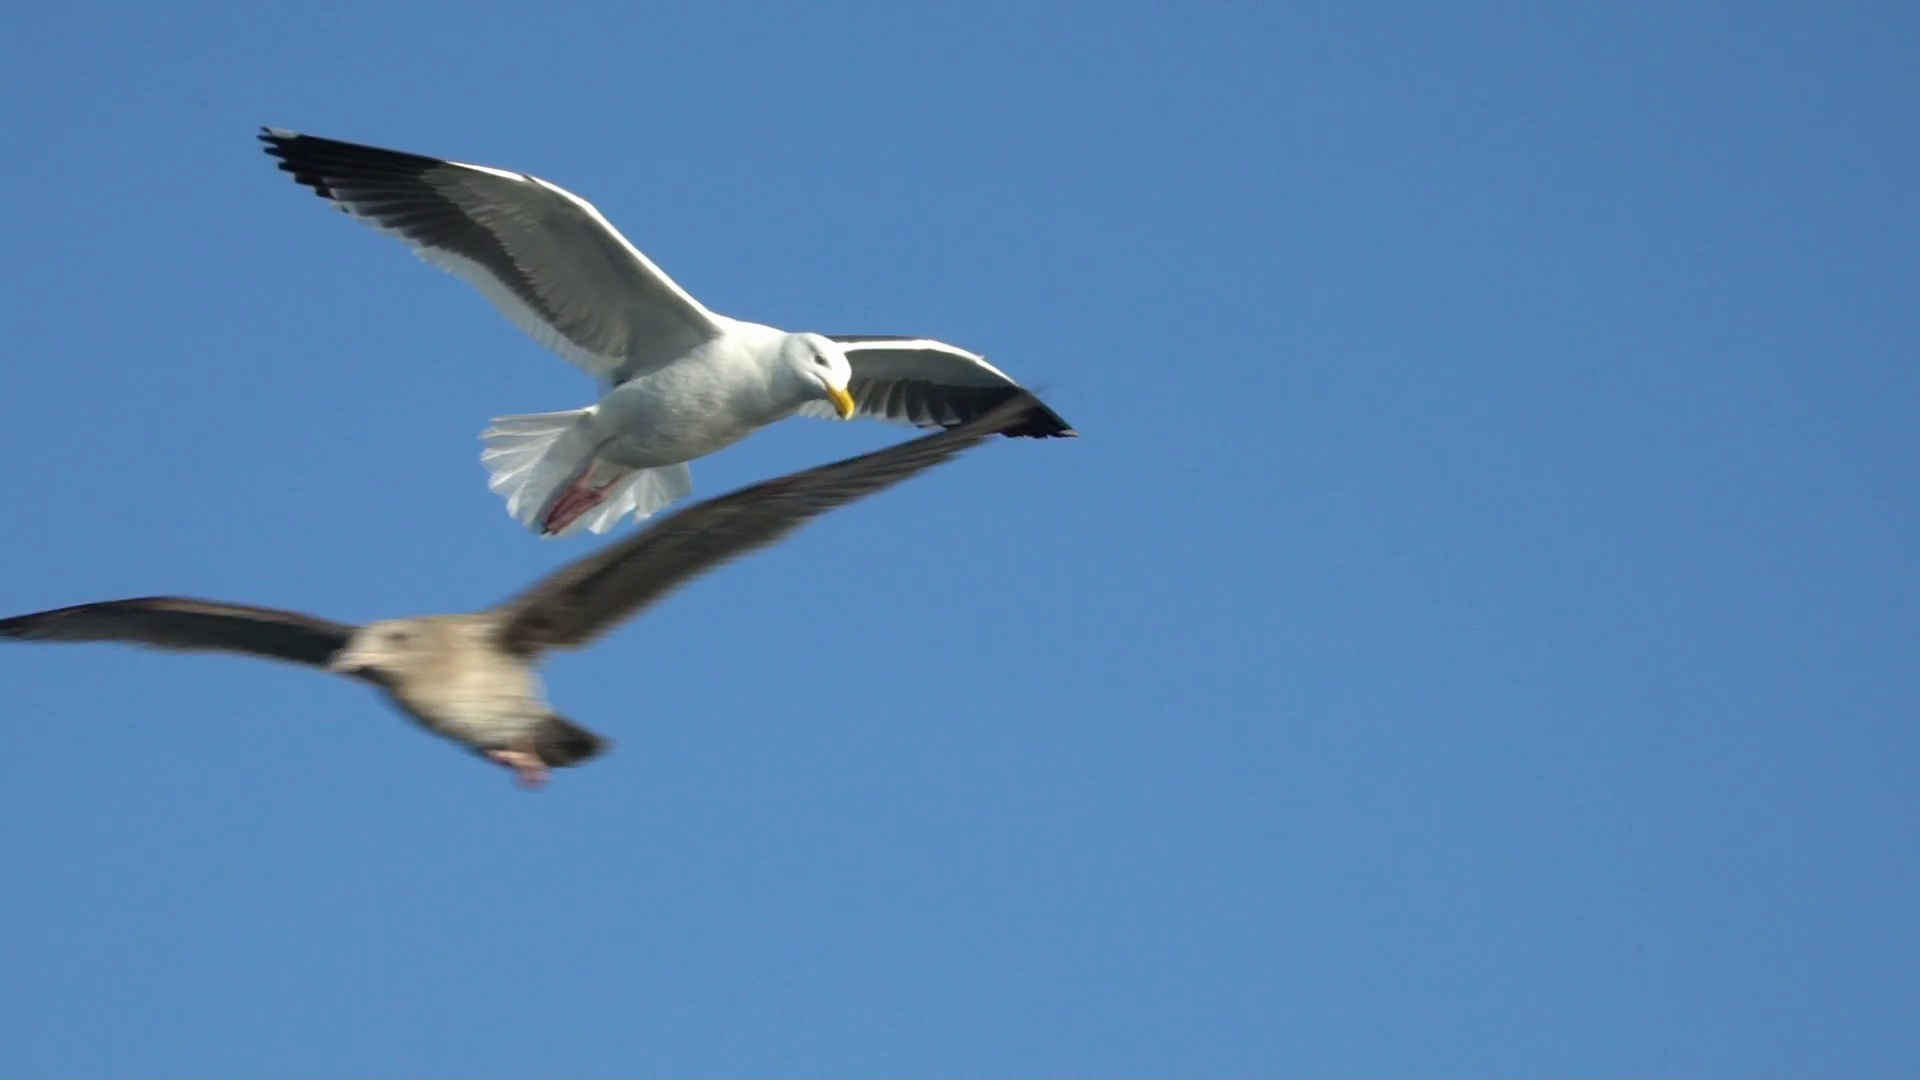bird: (1, 377, 1047, 796), (255, 123, 1069, 537)
